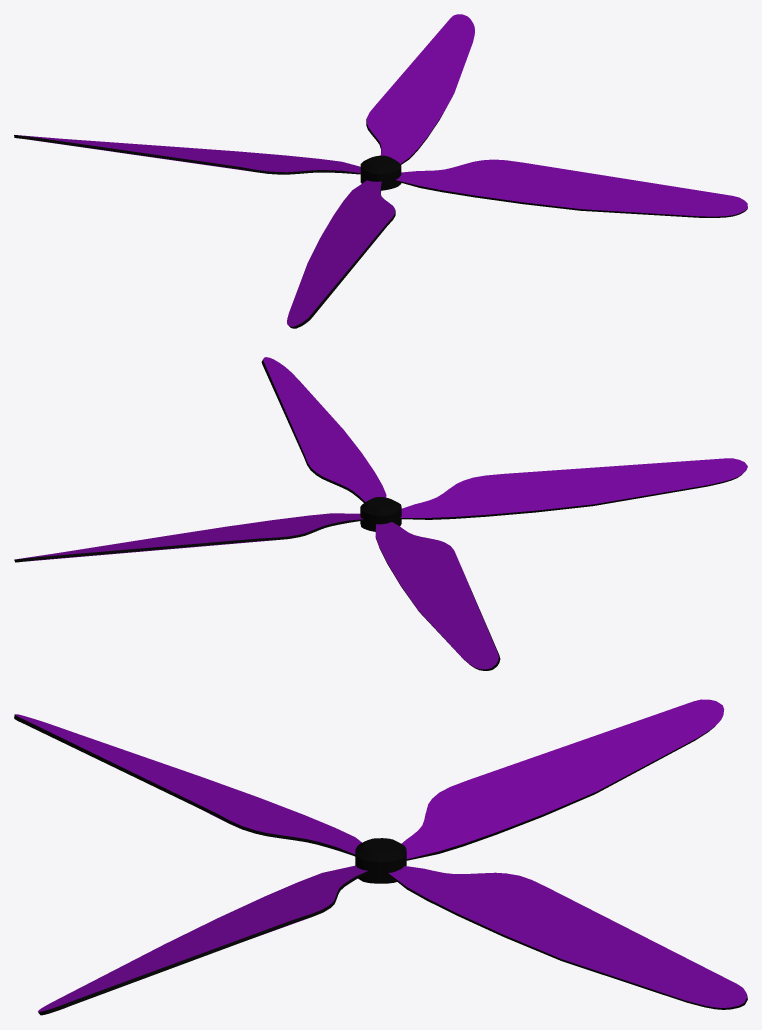
The model's file is BladeLevel3.fbx.
The picture shows the model from 3 angles, top to bottom: view 1: azimuth 30°, elevation 25°; view 2: azimuth 150°, elevation 25°; view 3: azimuth 270°, elevation 25°; orthographic projection. The views are drawn at different scales.
Visible parts, largest first — view 1: BladeLevel3; view 2: BladeLevel3; view 3: BladeLevel3.
Part boxes in pixels (left/top/right/bottom): BladeLevel3: left=14, top=14, right=747, bottom=328; BladeLevel3: left=14, top=357, right=747, bottom=670; BladeLevel3: left=14, top=699, right=747, bottom=1015.
Bounding box in the file's own units: 115 × 4.81 × 115.
